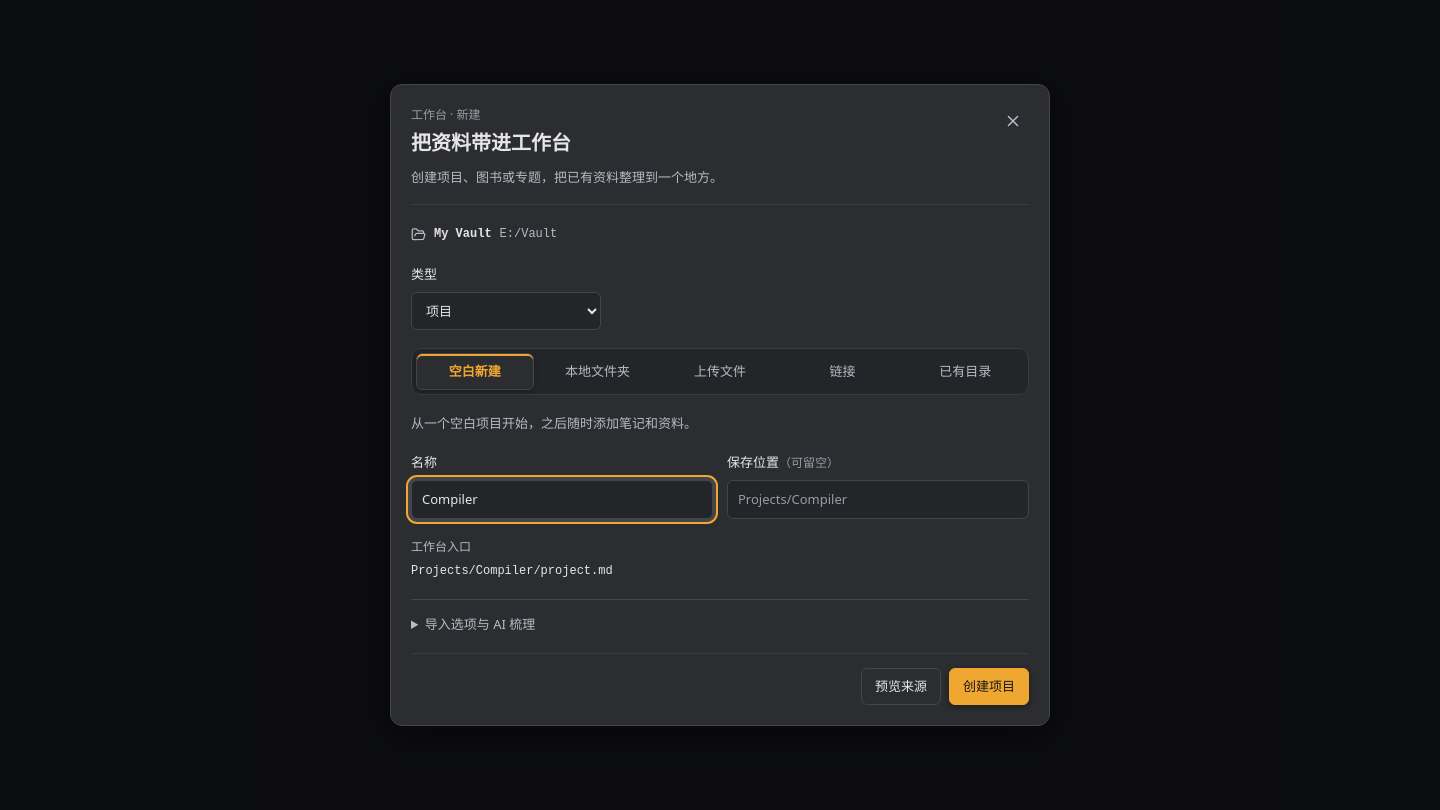
Test: SourceImportModal › does not claim partial completion when a failed task saved no content
This screenshot has width=1440, height=810.
Step 1. Click the button with test id "source-start" → (989, 687), box x1=949 y1=668 x2=1029 y2=705
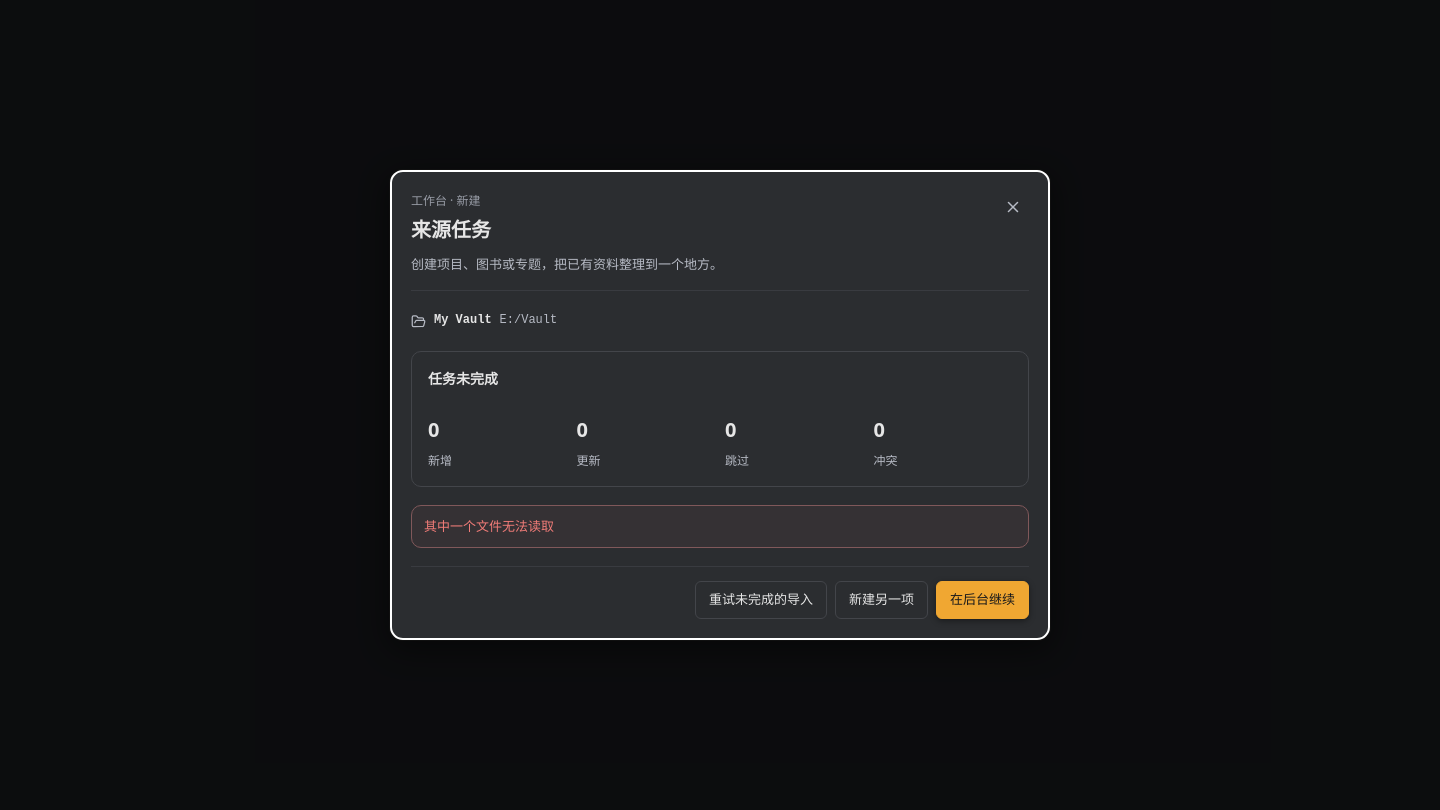
expect the heading "任务未完成" is shown: met, box x1=428 y1=369 x2=498 y2=388
